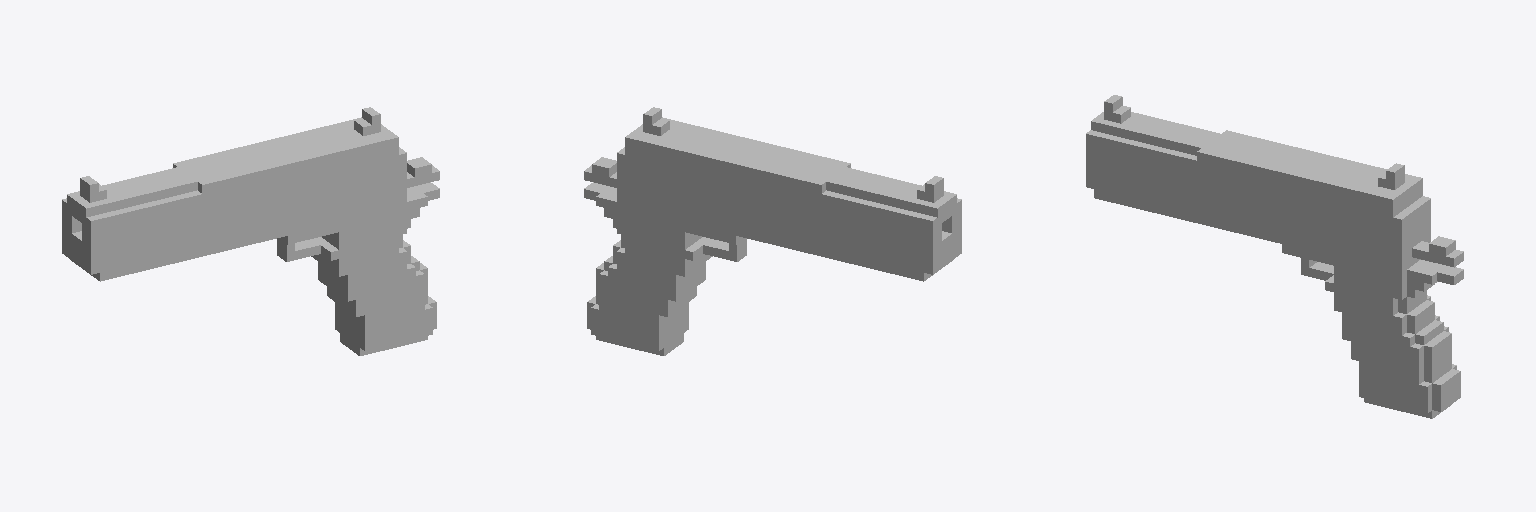
The model's file is pistol.obj.
3 views of the same model, side by side, from view 1: azimuth 30°, elevation 25°; view 2: azimuth 150°, elevation 25°; view 3: azimuth 330°, elevation 25° (orthographic).
Visible parts, largest first — view 1: object 1; view 2: object 1; view 3: object 1.
Part boxes in pixels (x1,y1,x2,y2): object 1: (62, 107, 439, 355); object 1: (584, 107, 961, 355); object 1: (1086, 95, 1463, 418).
Size of the model in its own units: 4.2 by 2.6 by 0.6.